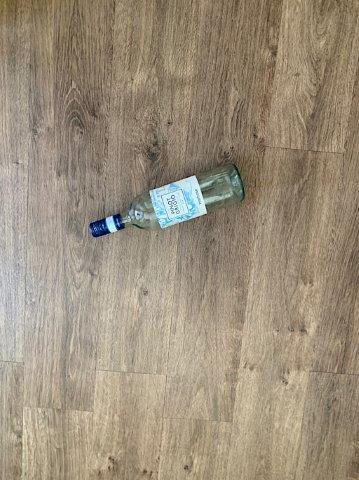botolkaca: (90, 166, 244, 238)
